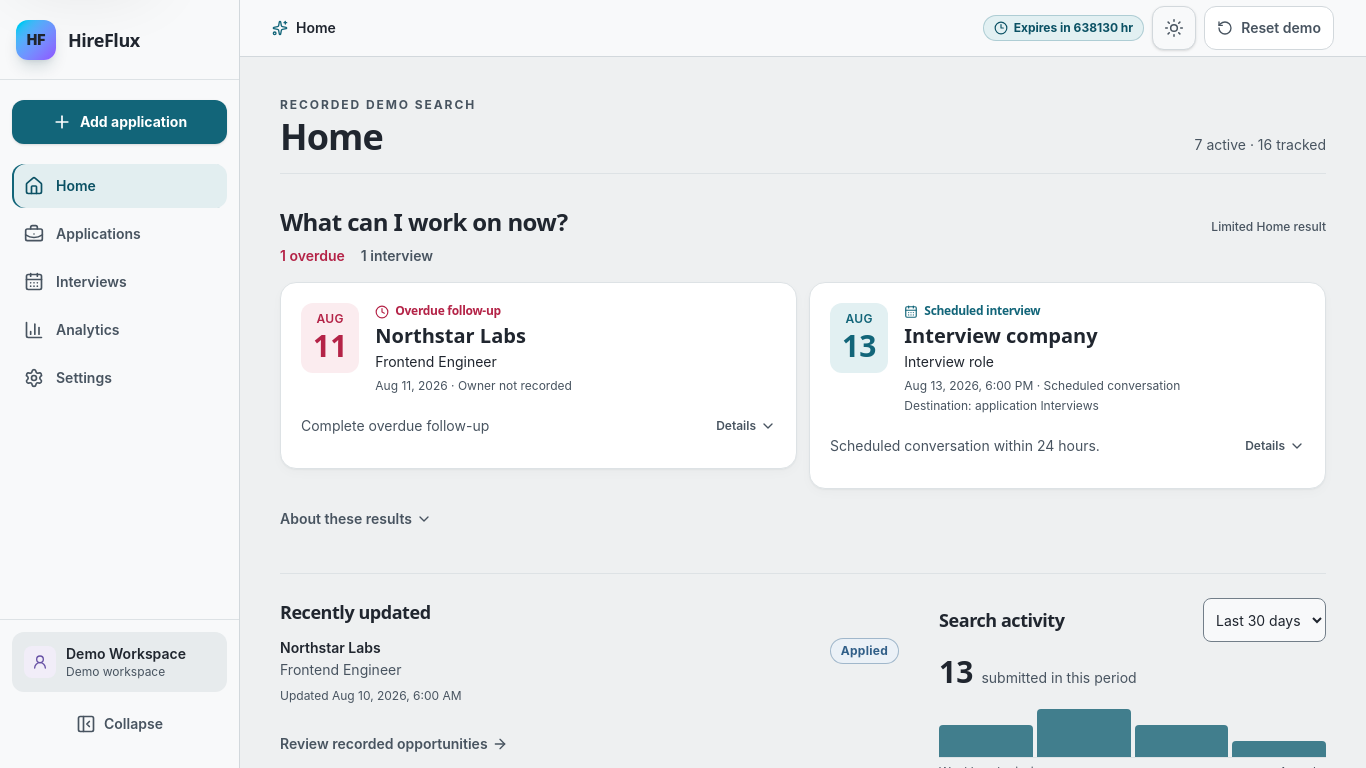
Test: workspace milestone features › keeps recorded commitments and their reasons in one decision context
Expected: the list item "1 overdue" is shown, [280,246,345,266]
Expected: the text "Limited Home result" is shown, [1211,219,1326,235]
What coordinates should you click on to do the following:
click the heading "About these results"
I would click on:
 (356, 518)
Its box is [280,510,432,527].
(page scrolled)
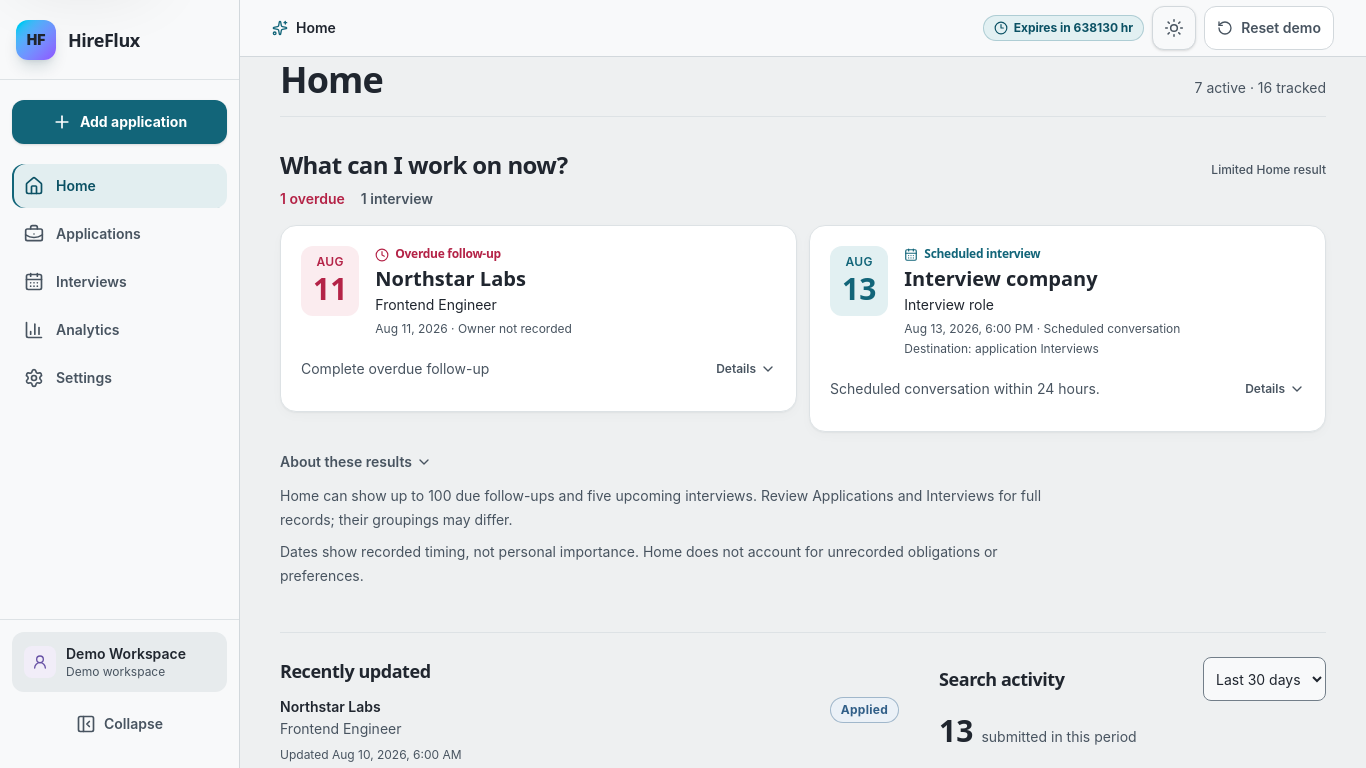
Expected: the text "Aug 13, 2026, 6:00 PM" is shown, [904,321,1033,336]
Now the text "Dates show recorded timing, not personal importance" is shown, box [280,543,998,584]
What coordinates should you click on to do the following:
click the button "Details" in the row of "Complete overdue follow-up"
I would click on:
 (746, 369)
Its box is [716,347,776,391].
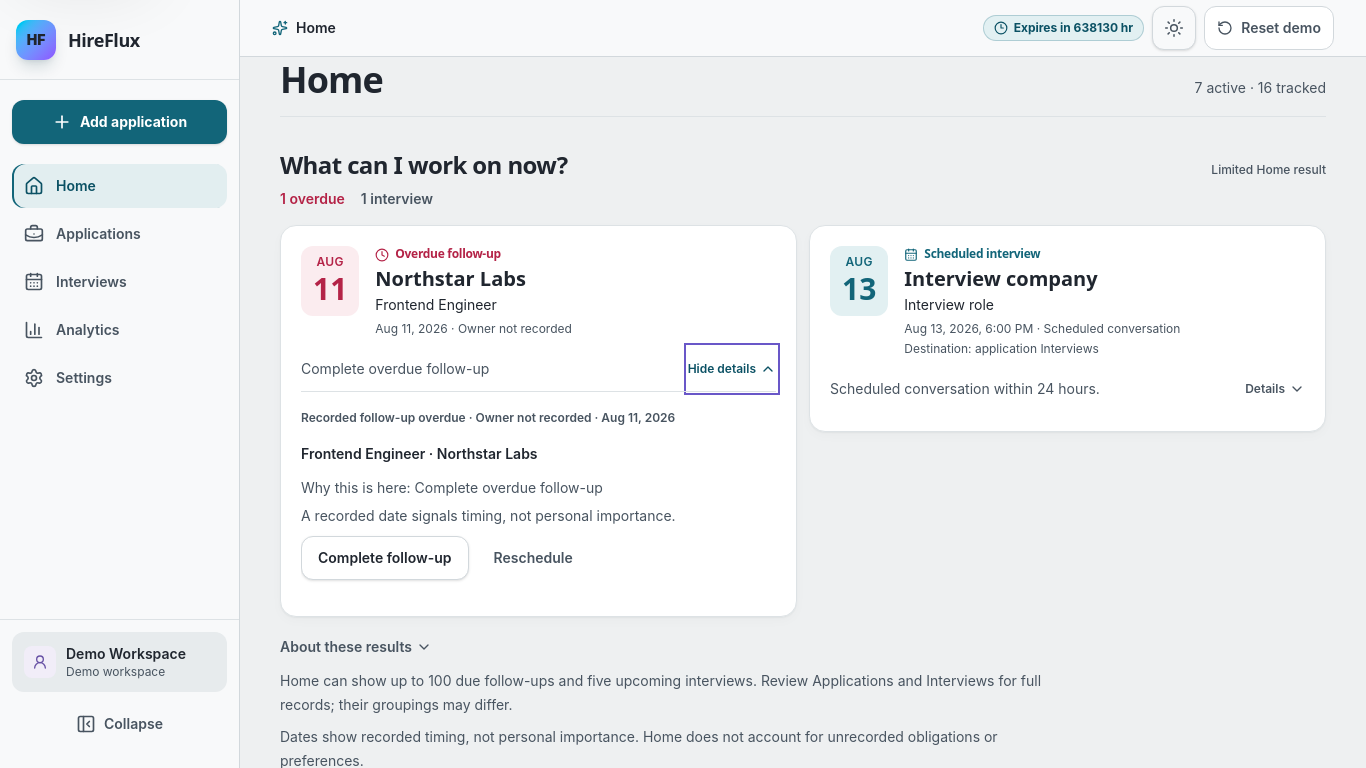
Now the text "Why this is here: Complete overdue follow-up" is shown, box [301,479,603,496]
Now the text "A recorded date signals timing, not personal importance." is shown, box [301,507,676,524]
What coordinates should you click on to do the following:
click the button "Complete follow-up"
I would click on:
 (385, 558)
Its box is [301,536,469,580].
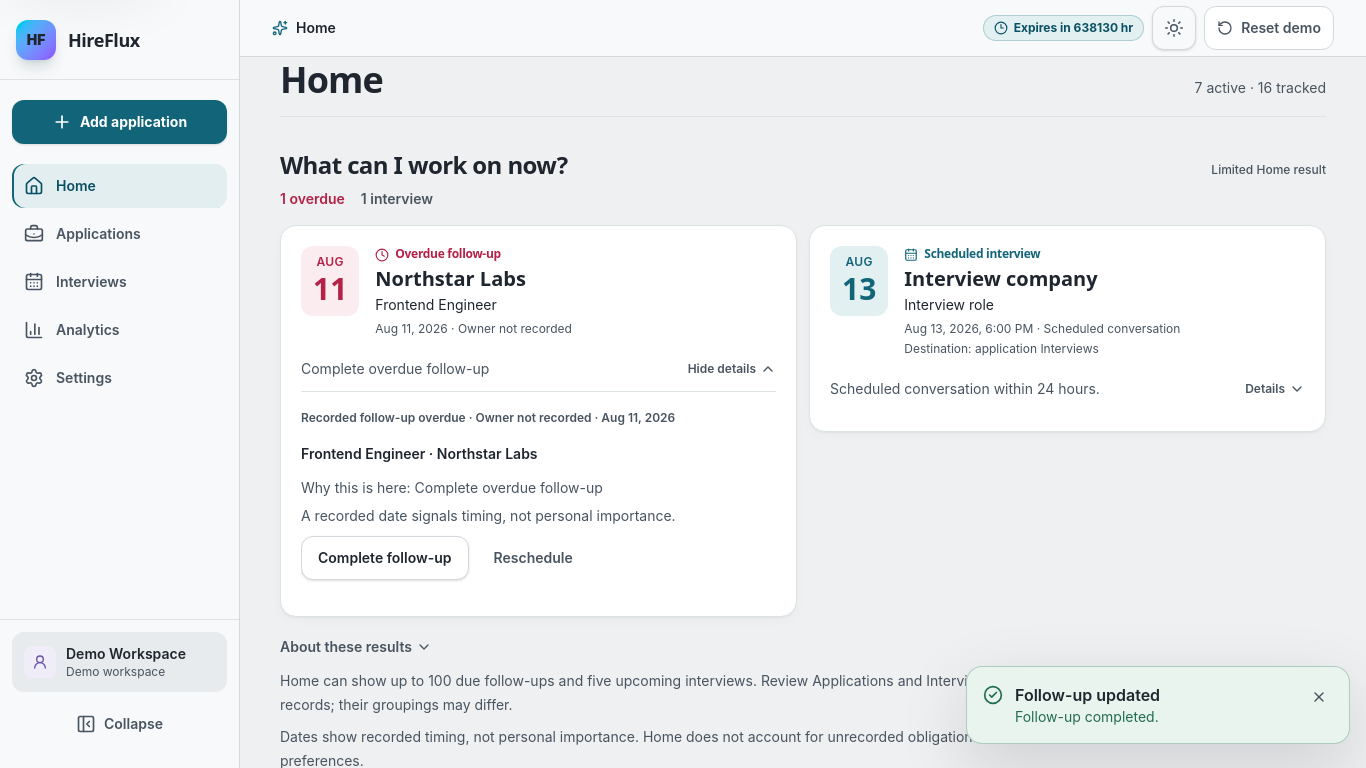
Now the text "Follow-up completed." is shown, box [1015,708,1159,725]
